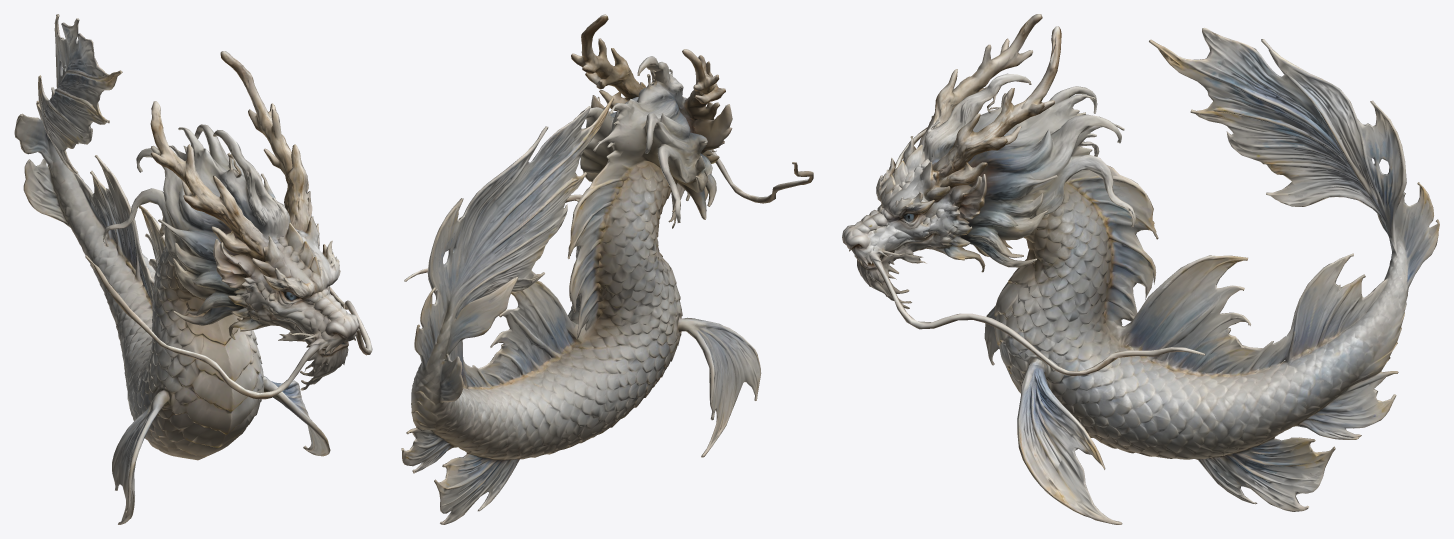
3 renders of one model, left to right at view 1: azimuth 30°, elevation 25°; view 2: azimuth 150°, elevation 25°; view 3: azimuth 270°, elevation 25°, orthographic. The views are drawn at different scales.
Parts seen in each view (by area): view 1: tripo_node_3ce1c127-340f-4971-bd69-28712ec42a87; view 2: tripo_node_3ce1c127-340f-4971-bd69-28712ec42a87; view 3: tripo_node_3ce1c127-340f-4971-bd69-28712ec42a87.
Boxes of the visible parts, left/top/right/bottom form: tripo_node_3ce1c127-340f-4971-bd69-28712ec42a87: left=14, top=14, right=372, bottom=524; tripo_node_3ce1c127-340f-4971-bd69-28712ec42a87: left=401, top=14, right=813, bottom=524; tripo_node_3ce1c127-340f-4971-bd69-28712ec42a87: left=842, top=14, right=1439, bottom=524.
Bounding box in the file's own units: 0.5811 × 0.8376 × 0.9802.
Materials: 1 (1 with a texture image).
